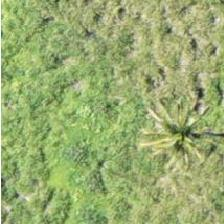Kelapa_Sawit: (136, 89, 224, 179)
